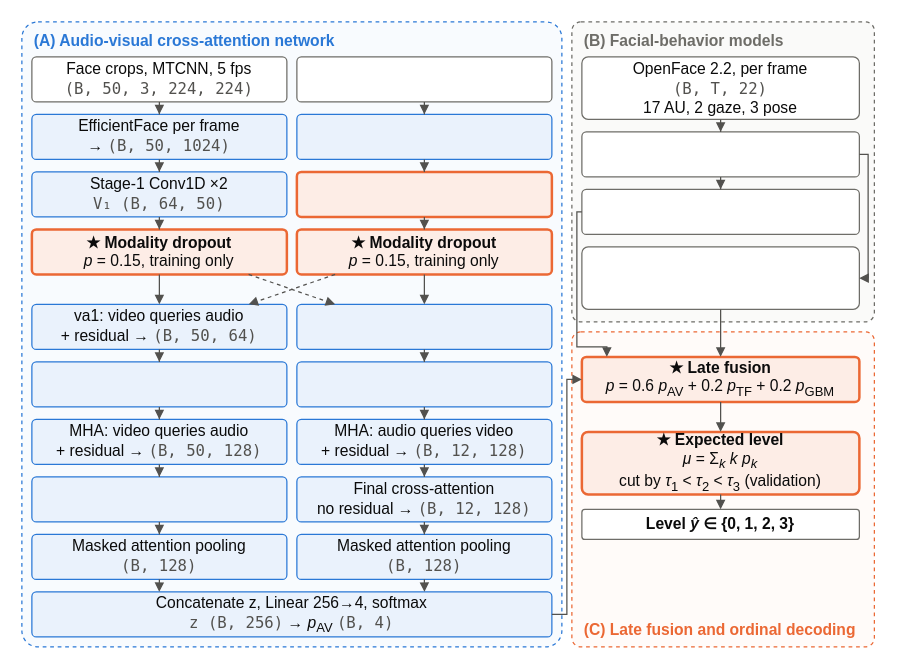
Image size: 899x669. Some labels were removed from this diagram. Here are the shapes that lost their labels. From the top down, the centre of each, then its label:
At [424,79]: "Log-mel spectrogram (B, 64, 431)".
At [424,136]: "Conv2D ×2, mean over freq. A₁ (B, 128, 107)".
At [720,154]: "20 segments × [mean, std] (B, 20, 44)".
At [423,194]: "★ Per-sample alignment Ã₁ (B, 128, 50)".
At [720,211]: "Segment Transformer 2 layers, d = 64 → p TF (B, 4)".
At [720,277]: "Gradient boosting, 3 fits (B, 924) : 20 × 44 + 44 → p GBM (B, 4)".
At [424,326]: "av1: audio queries video + residual → (B, 50, 128)".
At [159,384]: "Stage-2 Conv1D ×2 V₂ (B, 128, 50)".
At [424,384]: "Stage-2 Conv1D ×2, MaxPool A₂ (B, 128, 12)".
At [159,499]: "Final cross-attention no residual → (B, 50, 128)".
